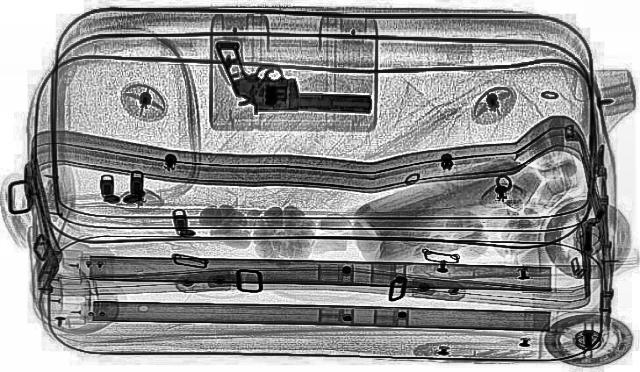Gun: (205, 40, 382, 116)
